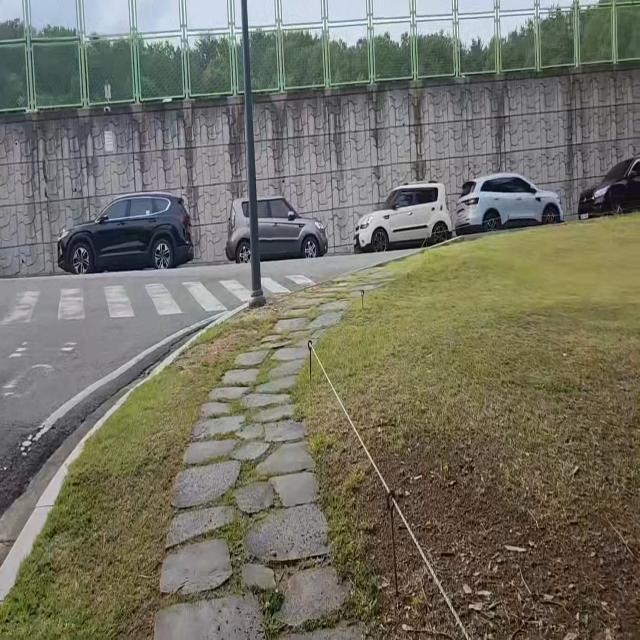obstacle: (50, 185, 200, 277)
road: (0, 246, 442, 572)
sidewalk: (142, 264, 402, 640)
